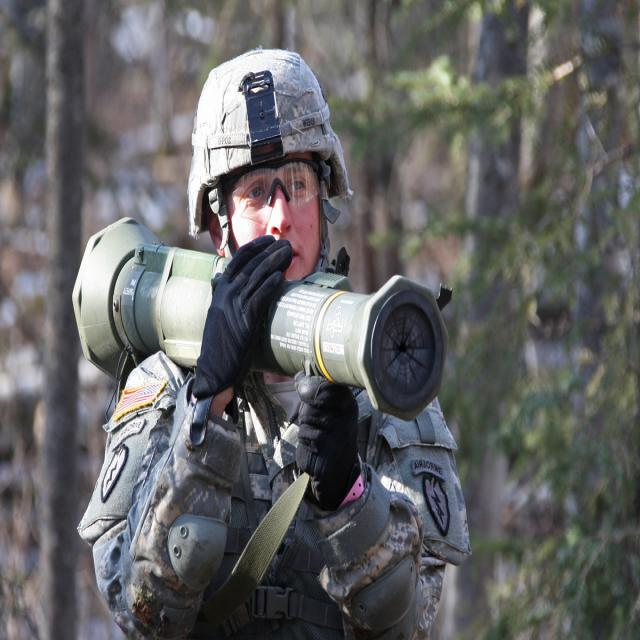bazooka: (61, 185, 464, 451)
